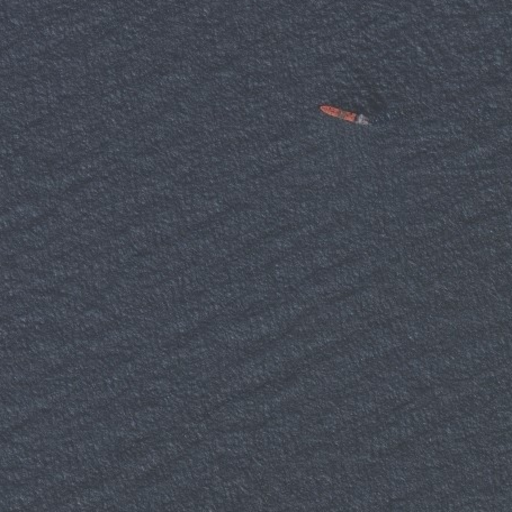ship: (315, 101, 375, 132)
